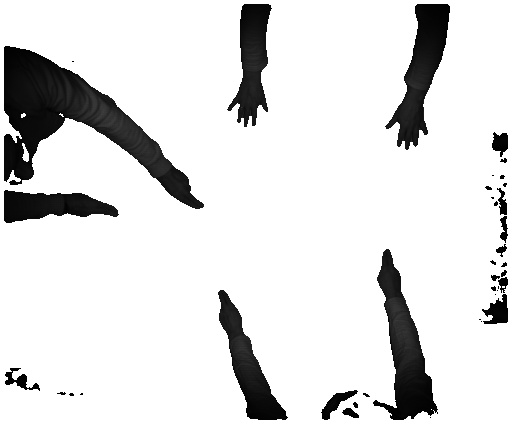hand: (384, 100, 431, 151), (163, 170, 207, 215), (228, 83, 271, 127), (216, 288, 249, 339), (69, 192, 119, 223), (376, 248, 406, 298)
